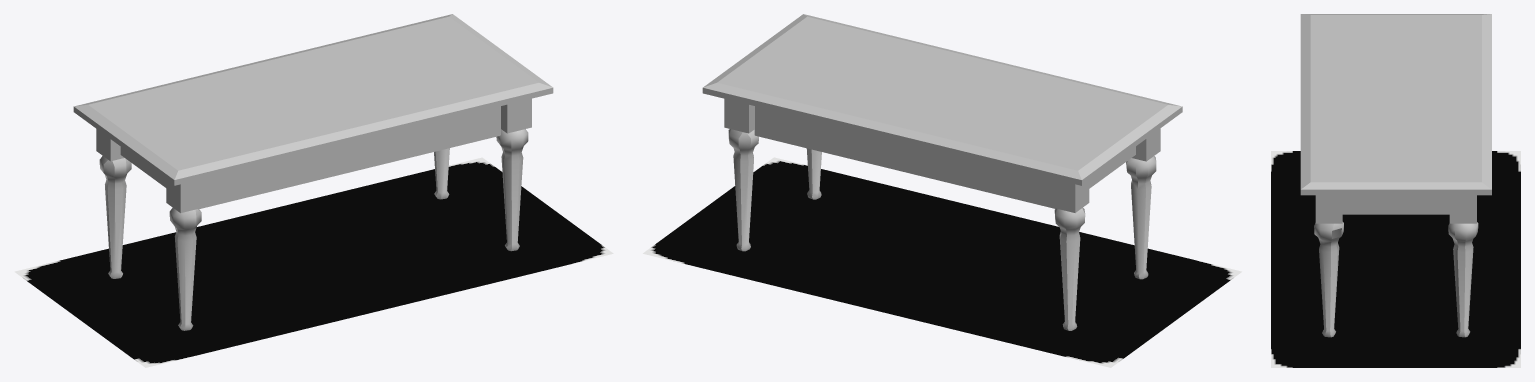
File: jj_ty_table02_01.FBX
3 renders of one model, left to right at view 1: azimuth 30°, elevation 25°; view 2: azimuth 150°, elevation 25°; view 3: azimuth 270°, elevation 25°, orthographic. The views are drawn at different scales.
Parts seen in each view (by area): view 1: jj_ty_table02_01, shadow; view 2: jj_ty_table02_01, shadow; view 3: jj_ty_table02_01, shadow.
Part boxes in pixels (x1=…): jj_ty_table02_01: x1=73, y1=14, x2=553, y2=330; shadow: x1=14, y1=157, x2=613, y2=367; jj_ty_table02_01: x1=702, y1=14, x2=1182, y2=330; shadow: x1=643, y1=157, x2=1241, y2=367; jj_ty_table02_01: x1=1300, y1=14, x2=1491, y2=337; shadow: x1=1271, y1=151, x2=1520, y2=367.
Size of the model in its own units: 72.83 by 25.59 by 35.43.
